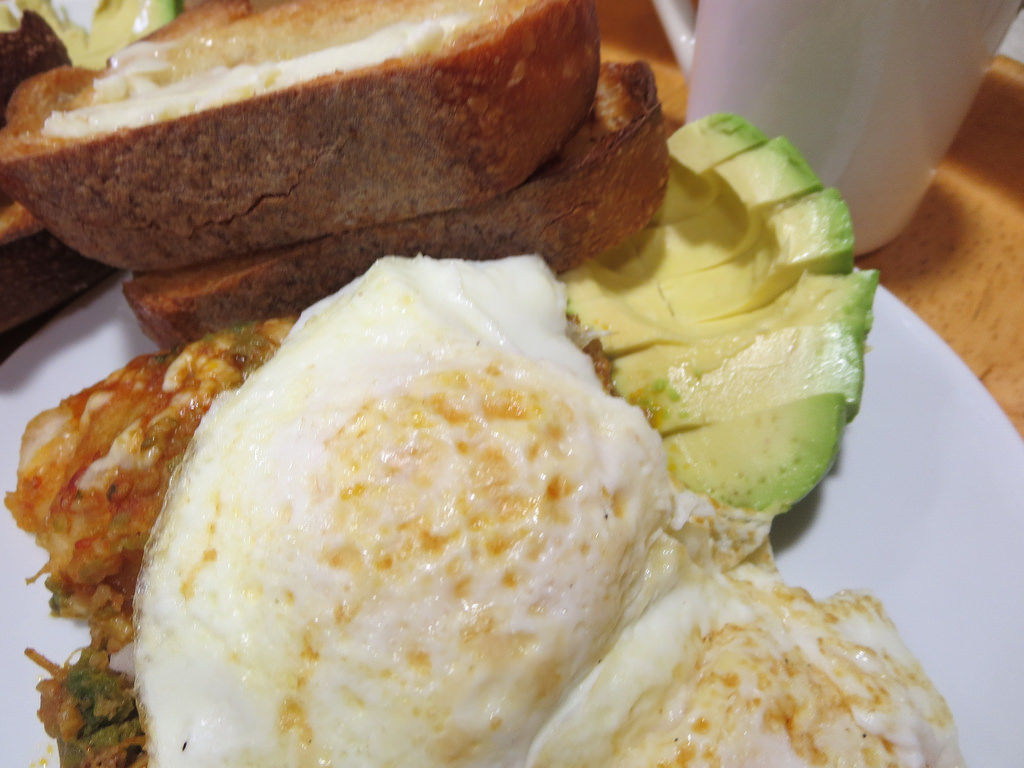fried egg: (139, 289, 666, 768), (504, 595, 964, 761)
slice of bread: (12, 1, 594, 217)
